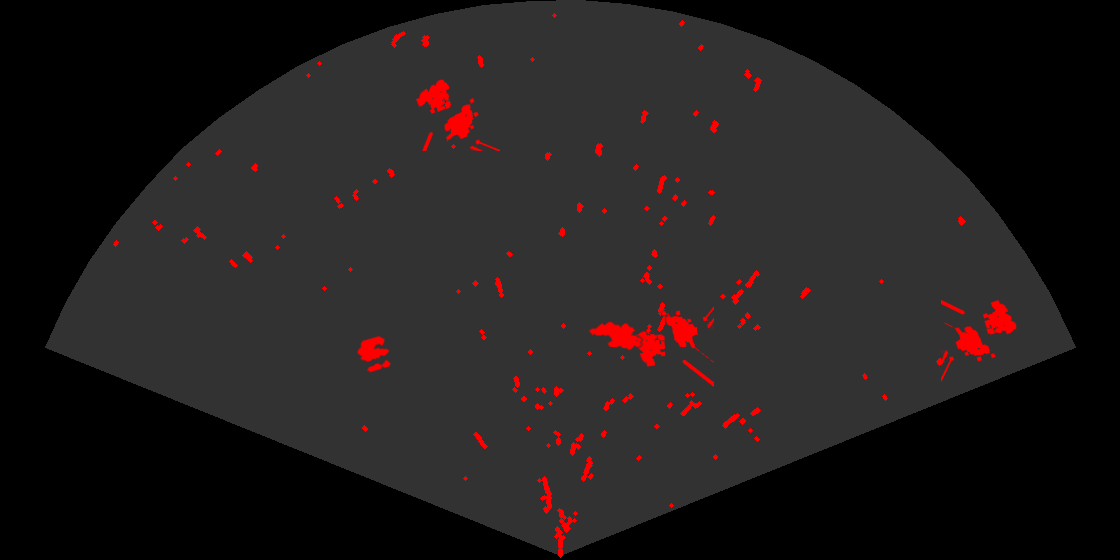AUV: (587, 320, 644, 352)
ball: (356, 334, 393, 374)
cage: (633, 305, 714, 388), (941, 298, 1018, 383), (414, 78, 500, 151)
